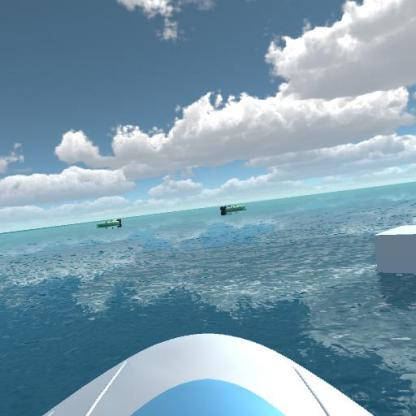usv0: (94, 214, 128, 234), (215, 200, 251, 216)
